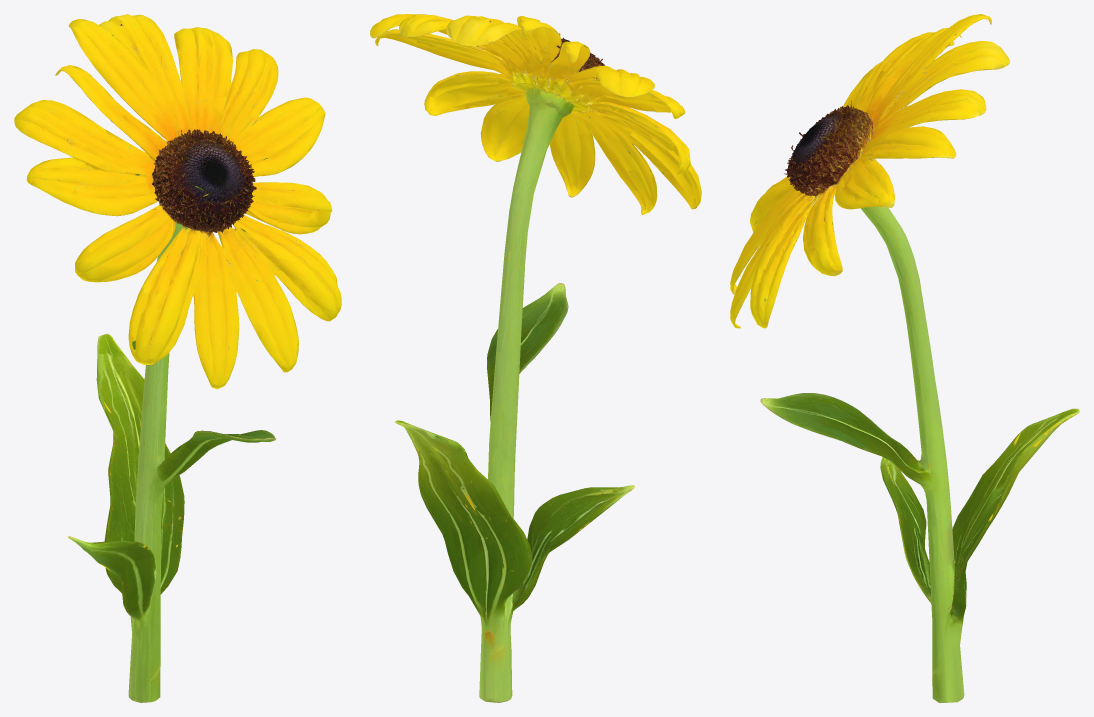
File: rudbeckia-05.glb
The picture shows the model from 3 angles, left to right: view 1: azimuth 30°, elevation 25°; view 2: azimuth 150°, elevation 25°; view 3: azimuth 270°, elevation 25°; orthographic projection. The views are drawn at different scales.
Size of the model in its own units: 0.867 by 1.9 by 0.9119.
Materials: 1 (1 with a texture image).
